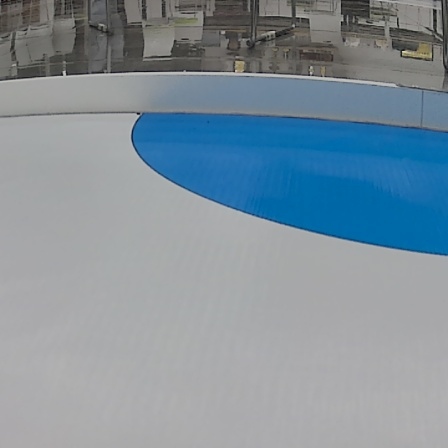blue_base: (131, 110, 448, 258)
